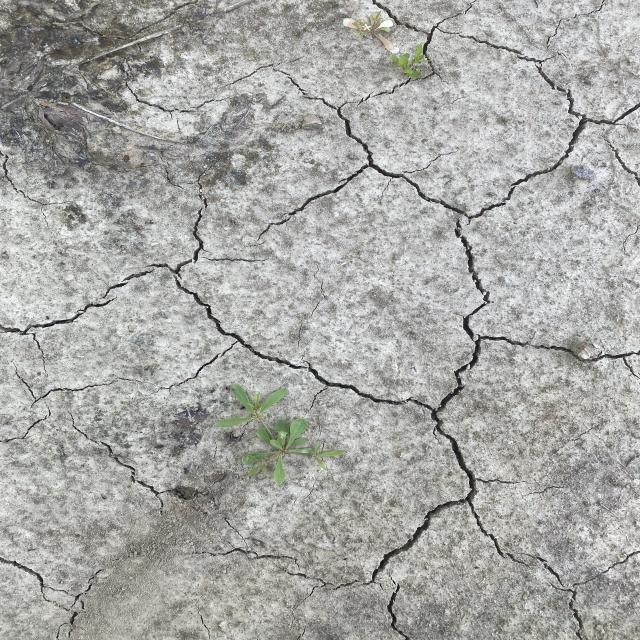Carpetweed: (210, 382, 346, 485)
